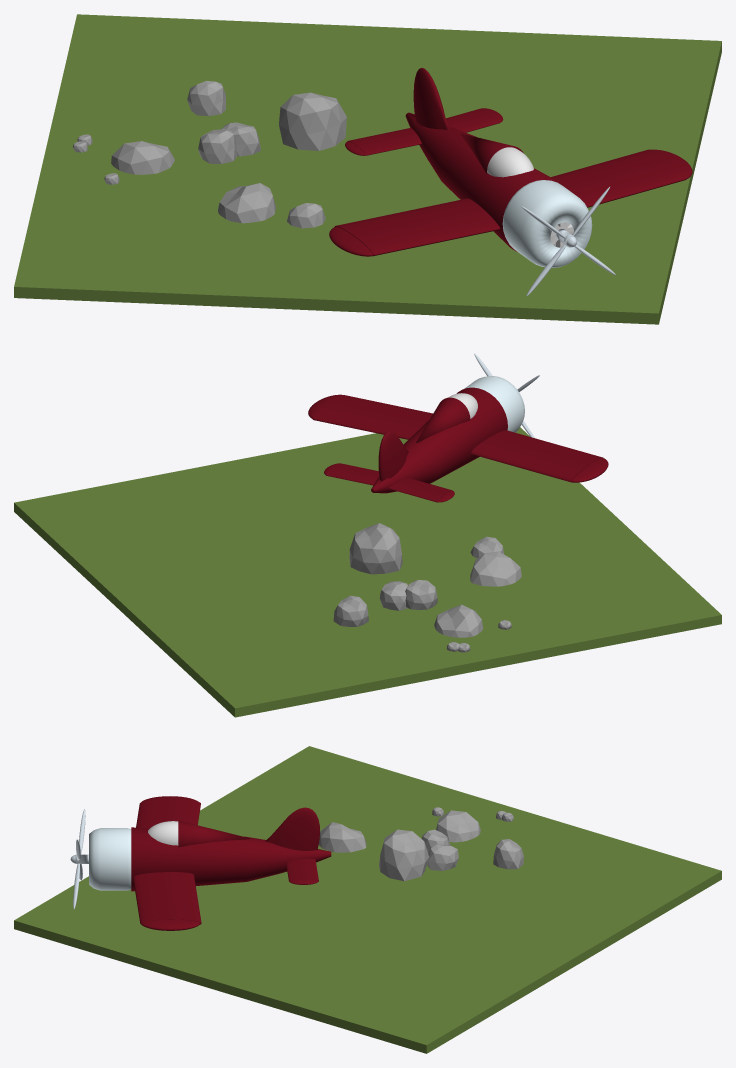
The model's file is rock.glb.
The picture shows the model from 3 angles, top to bottom: view 1: azimuth 30°, elevation 25°; view 2: azimuth 150°, elevation 25°; view 3: azimuth 270°, elevation 25°; orthographic projection. The views are drawn at different scales.
Parts seen in each view (by area): view 1: Cube, Cylinder.006, Cylinder.007, Icosphere, Icosphere.005, Icosphere.009, Sphere.002, Icosphere.003, Icosphere.002, Sphere.005, Icosphere.001, Icosphere.004; view 2: Cube, Cylinder.006, Icosphere, Icosphere.005, Cylinder.007, Icosphere.009, Icosphere.003, Icosphere.002, Icosphere.001; view 3: Cube, Cylinder.006, Cylinder.007, Icosphere, Icosphere.005, Icosphere.009, Icosphere.003, Icosphere.001, Sphere.002, Sphere.005.
Part boxes in pixels (x1,y1,x2,y2): Cube: (14, 14, 721, 324); Cylinder.006: (329, 68, 692, 256); Cylinder.007: (502, 180, 592, 267); Icosphere: (279, 92, 346, 150); Icosphere.005: (218, 183, 275, 223); Icosphere.009: (111, 141, 174, 174); Sphere.002: (521, 187, 615, 296); Icosphere.003: (187, 80, 225, 116); Icosphere.002: (198, 129, 236, 163); Sphere.005: (487, 147, 533, 177); Icosphere.001: (221, 122, 260, 156); Icosphere.004: (287, 203, 325, 228); Cube: (14, 427, 721, 717); Cylinder.006: (308, 387, 608, 502); Icosphere: (349, 523, 402, 574); Icosphere.005: (470, 551, 521, 586); Cylinder.007: (464, 376, 524, 432); Icosphere.009: (434, 604, 483, 637); Icosphere.003: (333, 595, 368, 626); Icosphere.002: (405, 580, 437, 609); Icosphere.001: (379, 581, 407, 610); Cube: (14, 746, 721, 1053); Cylinder.006: (131, 796, 331, 930); Cylinder.007: (89, 828, 131, 890); Icosphere: (379, 829, 429, 881); Icosphere.005: (318, 822, 366, 852); Icosphere.009: (436, 810, 480, 842); Icosphere.003: (493, 839, 523, 869); Icosphere.001: (427, 844, 458, 870); Sphere.002: (70, 809, 88, 909); Sphere.005: (148, 821, 178, 845).
Size of the model in its own units: 28.89 by 5.08 by 28.89.
